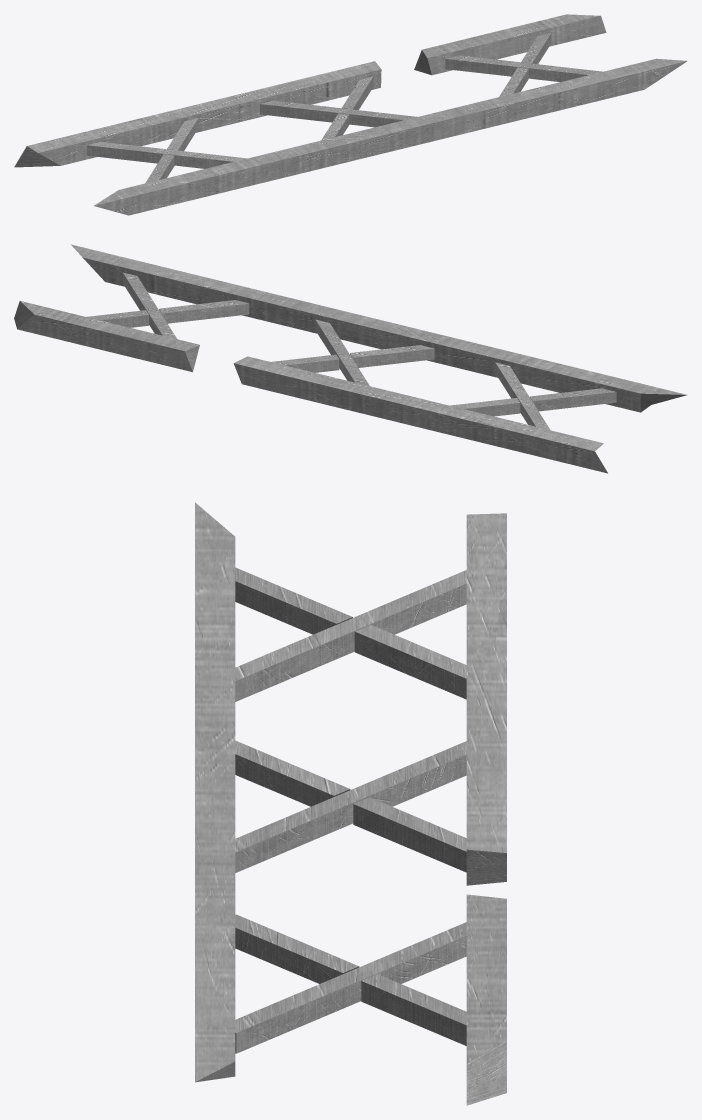
Rendered from general_debris_1.obj.
3 renders of one model, top to bottom at view 1: azimuth 30°, elevation 25°; view 2: azimuth 150°, elevation 25°; view 3: azimuth 270°, elevation 25°, orthographic. The views are drawn at different scales.
Parts seen in each view (by area): view 1: Girder_Cube; view 2: Girder_Cube; view 3: Girder_Cube.
Boxes of the visible parts, x1,y1,x2,y2 form: Girder_Cube: (14, 14, 687, 215); Girder_Cube: (14, 244, 686, 473); Girder_Cube: (195, 502, 506, 1105).
Size of the model in its own units: 7.28 by 0.2135 by 1.65.
Materials: 1 (1 with a texture image).
